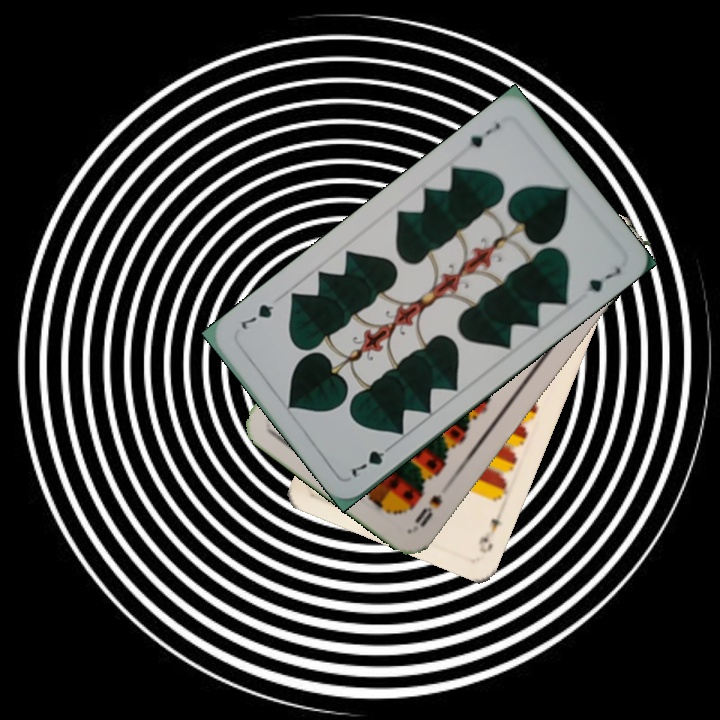E9: (474, 514, 503, 556)
G7: (347, 439, 397, 481), (464, 118, 503, 150)
S8: (409, 490, 445, 533)
